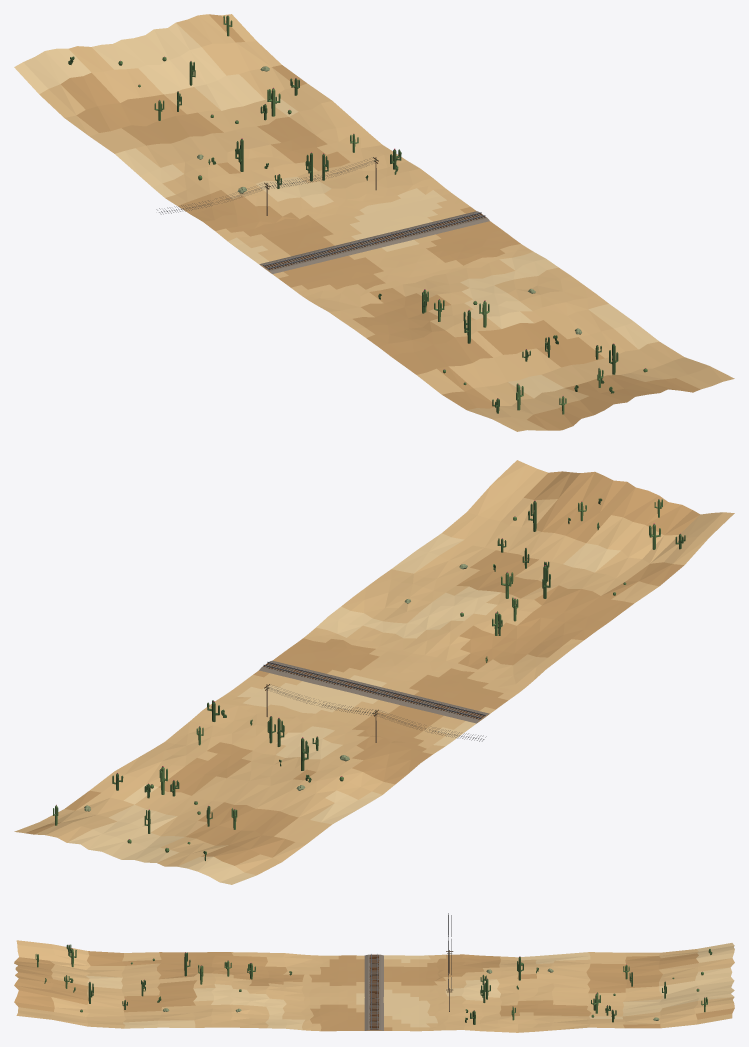
The model's file is SM_FG_Chunk_Cactus_A.fbx.
The picture shows the model from 3 angles, top to bottom: view 1: azimuth 30°, elevation 25°; view 2: azimuth 150°, elevation 25°; view 3: azimuth 270°, elevation 25°; orthographic projection. The views are drawn at different scales.
Parts seen in each view (by area): view 1: FG_Chunk_Cactus_A_Ground, FG_Chunk_Cactus_A_SceneryNear, FG_Chunk_Cactus_A_Track; view 2: FG_Chunk_Cactus_A_Ground, FG_Chunk_Cactus_A_SceneryNear, FG_Chunk_Cactus_A_Track; view 3: FG_Chunk_Cactus_A_Ground, FG_Chunk_Cactus_A_SceneryNear, FG_Chunk_Cactus_A_Track.
Boxes of the visible parts, <box> form: FG_Chunk_Cactus_A_Ground: <box>14,14,734,431</box>; FG_Chunk_Cactus_A_SceneryNear: <box>68,15,647,414</box>; FG_Chunk_Cactus_A_Track: <box>259,211,489,273</box>; FG_Chunk_Cactus_A_Ground: <box>14,460,734,884</box>; FG_Chunk_Cactus_A_SceneryNear: <box>53,498,685,860</box>; FG_Chunk_Cactus_A_Track: <box>259,660,489,723</box>; FG_Chunk_Cactus_A_Ground: <box>14,940,734,1032</box>; FG_Chunk_Cactus_A_SceneryNear: <box>35,913,712,1024</box>; FG_Chunk_Cactus_A_Track: <box>364,954,383,1030</box>.
Size of the model in its own units: 6250 by 20145 by 913.
